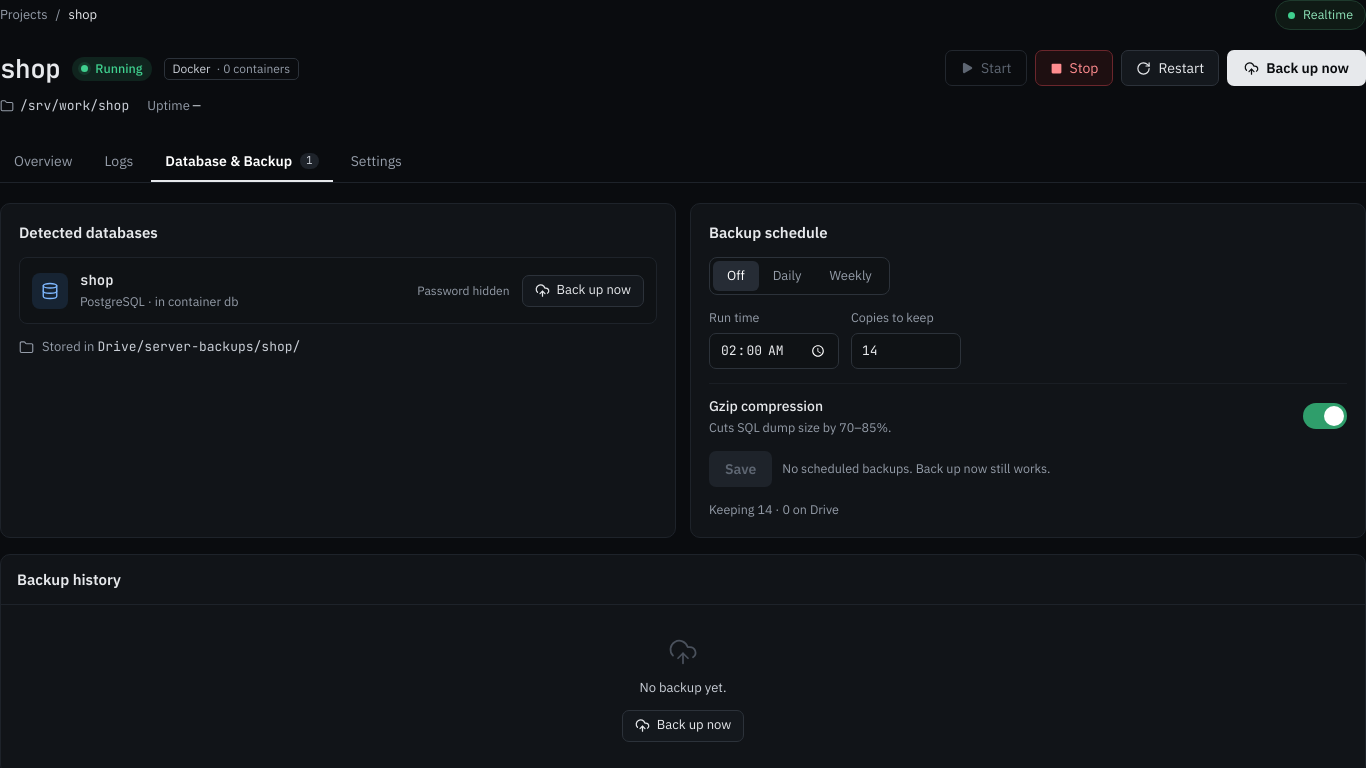
Test: backup history › reads the list again at once when a refusal wrote a row
Expected: the text "No backup yet." is shown, [640,679,726,698]
Step 1. Click the button "Back up now" below "No backup yet." → (683, 726), box [622,710,744,742]
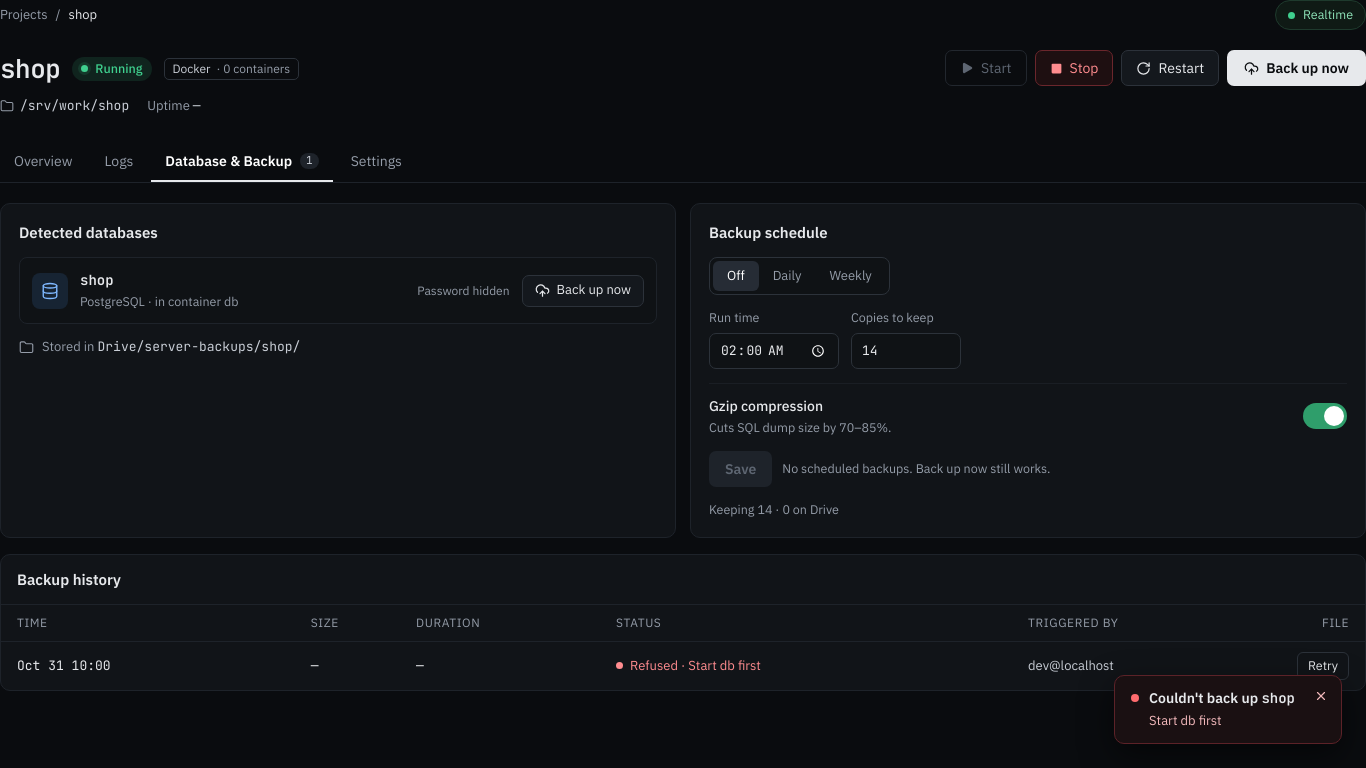
Now the row that starts with "Oct 31 10:00" shows "Refused · Start db first", box [616,657,761,675]
